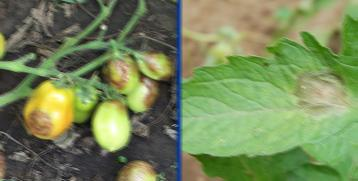Tomato leaf late blight: (183, 20, 358, 181)
